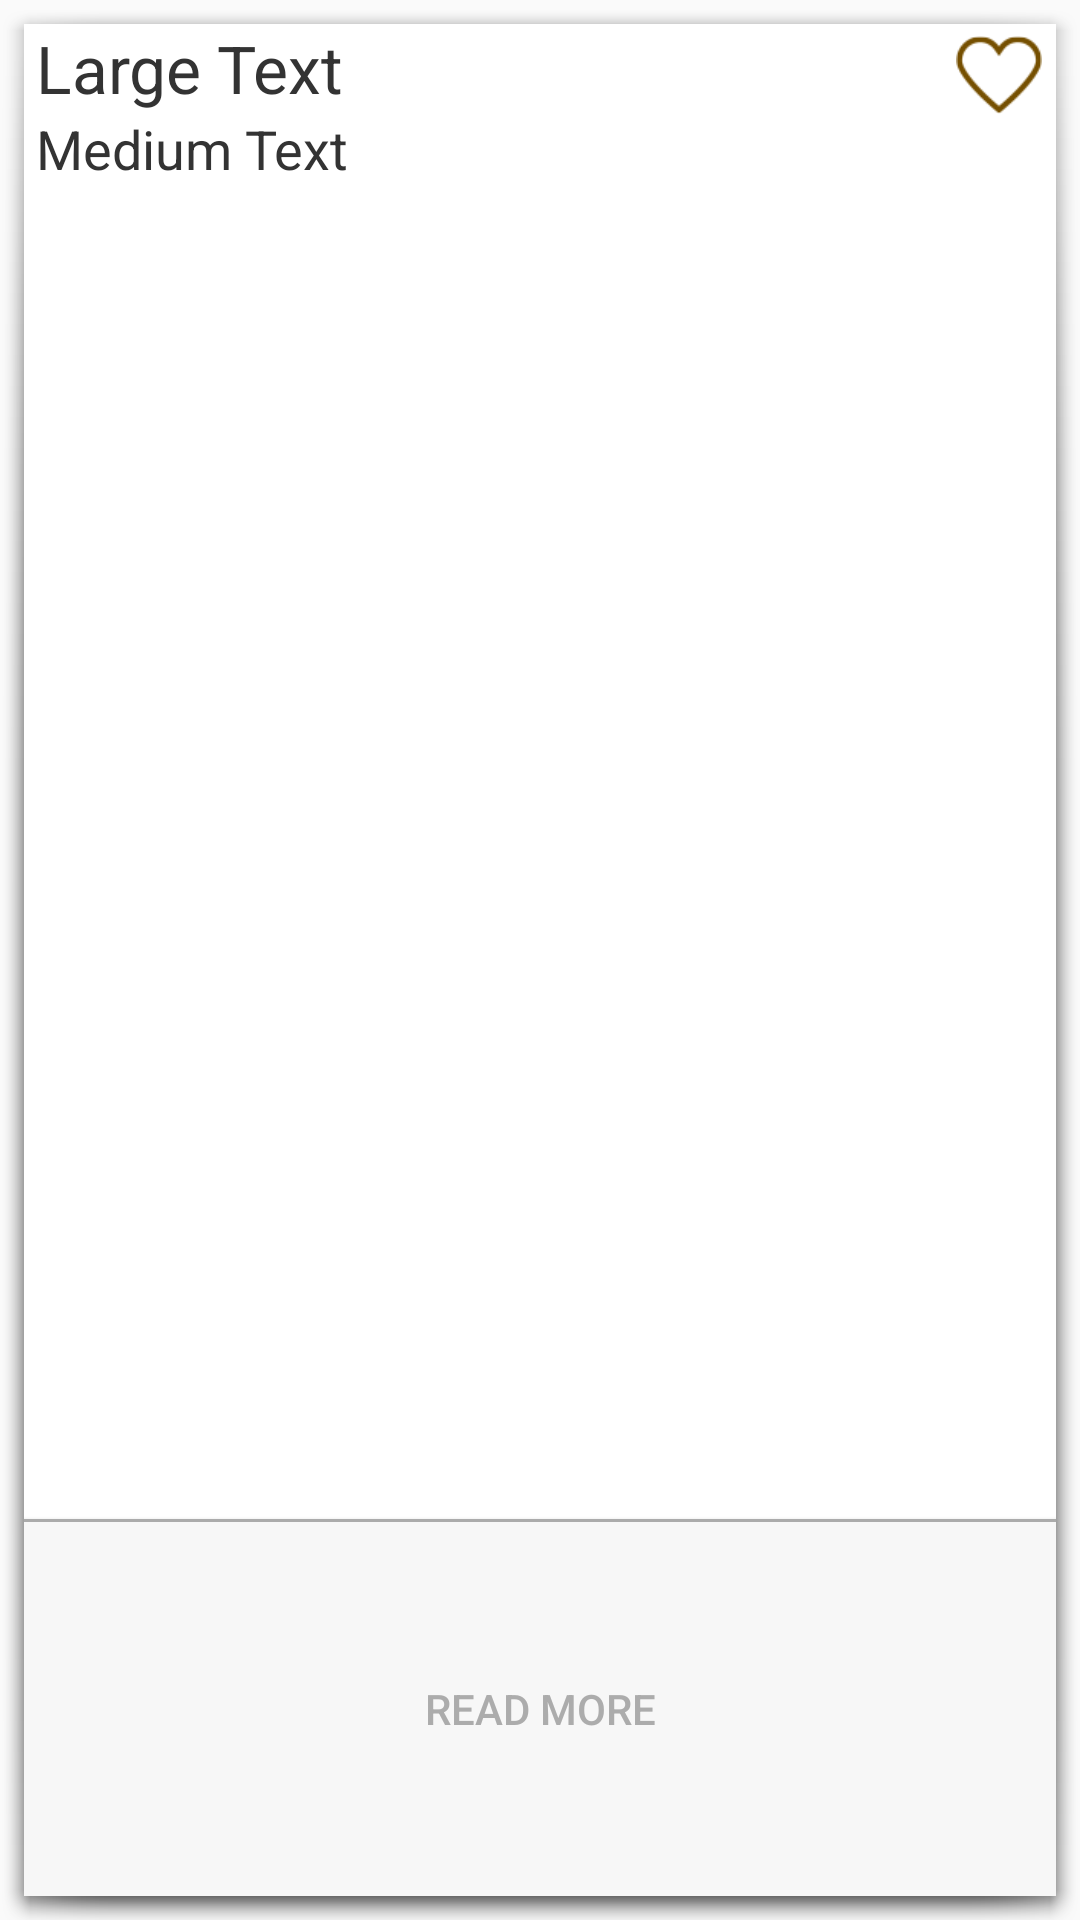

Screen size 1080x1920. Icon name, then its center in pixels as point (x, y):
favorite: point (999, 74)
